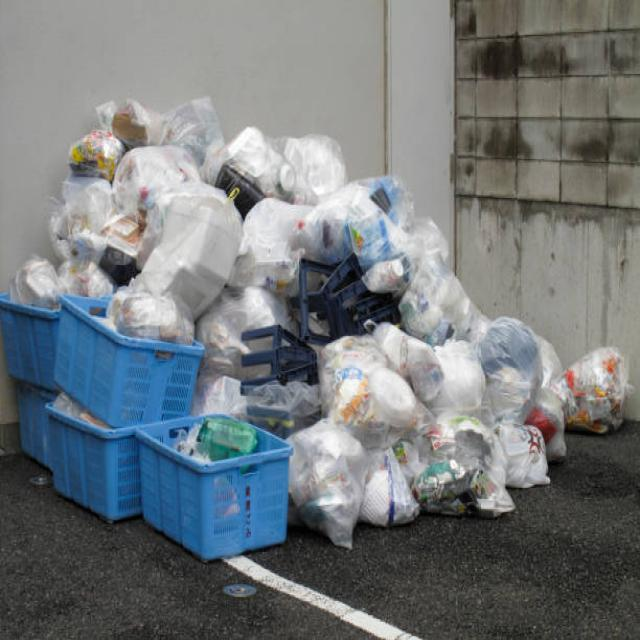trash: (80, 124, 580, 520)
